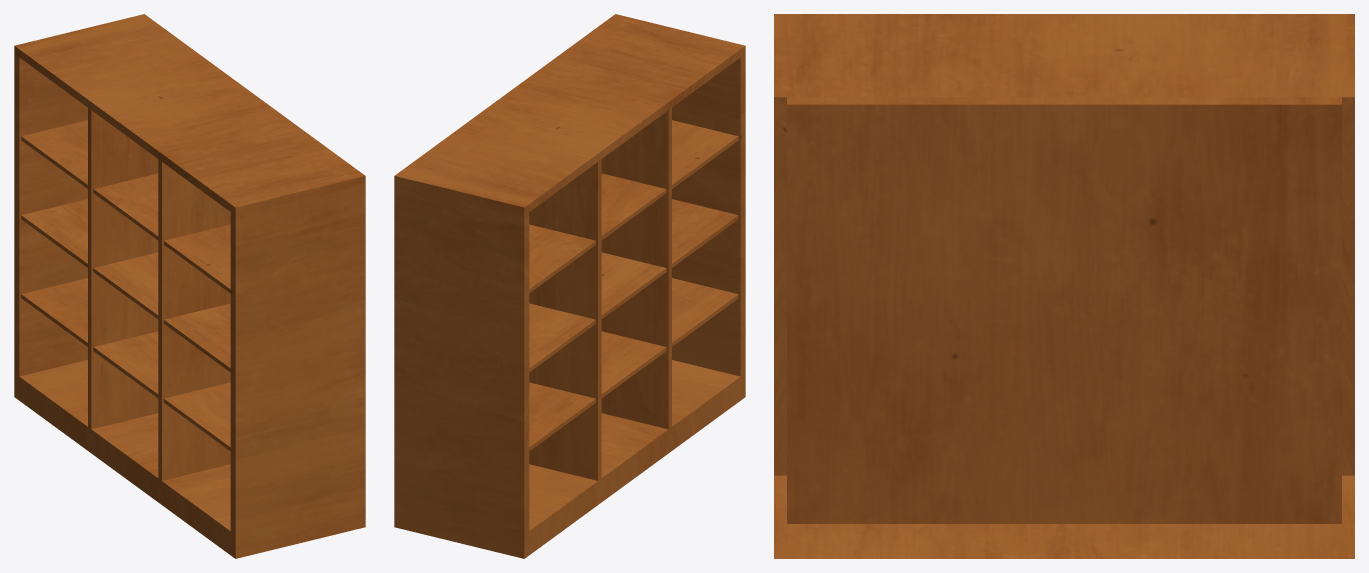
Rendered from BookShelf.fbx.
3 renders of one model, left to right at view 1: azimuth 30°, elevation 25°; view 2: azimuth 150°, elevation 25°; view 3: azimuth 270°, elevation 25°, orthographic. The views are drawn at different scales.
Visible parts, largest first — view 1: BookShelf; view 2: BookShelf; view 3: BookShelf.
Boxes of the visible parts, box(x1,y1,x2,y2) form: BookShelf: box(14, 14, 365, 558); BookShelf: box(394, 14, 745, 558); BookShelf: box(774, 14, 1354, 558).
Bounding box in the file's own units: 41.15 × 106 × 121.
